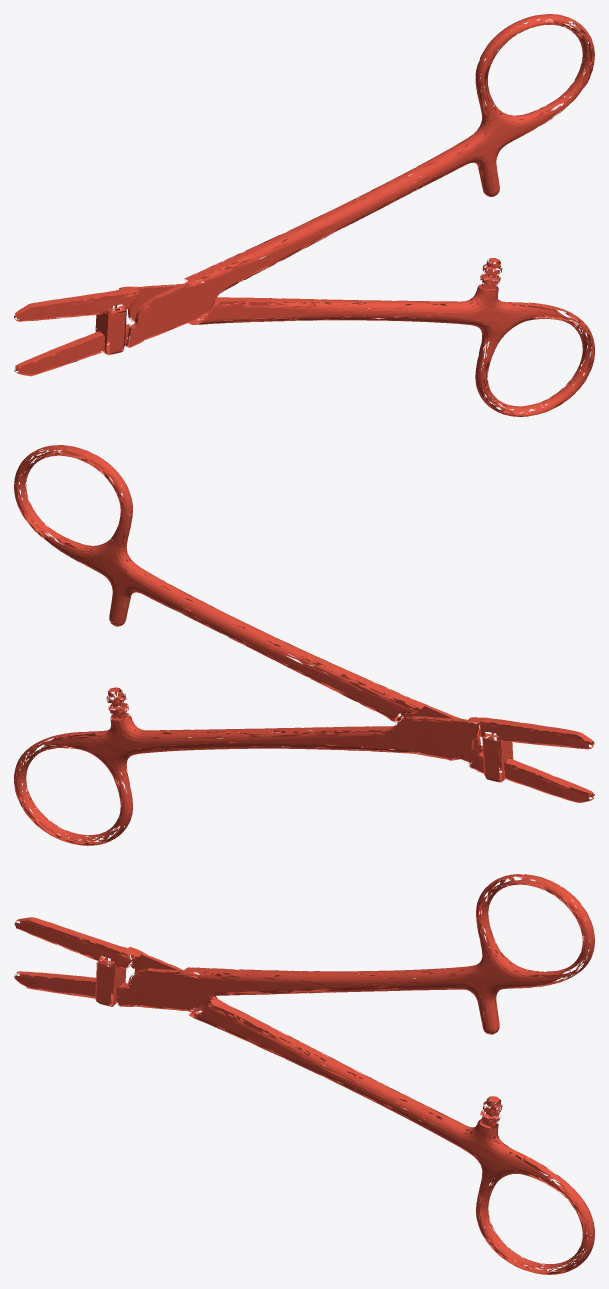
Rendered from circuit-clamp.glb.
3 views of the same model, one above another, from view 1: azimuth 30°, elevation 25°; view 2: azimuth 150°, elevation 25°; view 3: azimuth 330°, elevation 25° (orthographic).
Visible parts, largest first — view 1: circuit_clamp; view 2: circuit_clamp; view 3: circuit_clamp.
Boxes of the visible parts, x1,y1,x2,y2 form: circuit_clamp: (14, 14, 594, 416); circuit_clamp: (14, 445, 594, 845); circuit_clamp: (14, 874, 594, 1274).
Bounding box in the file's own units: 0.19 × 0.1243 × 0.00762.
